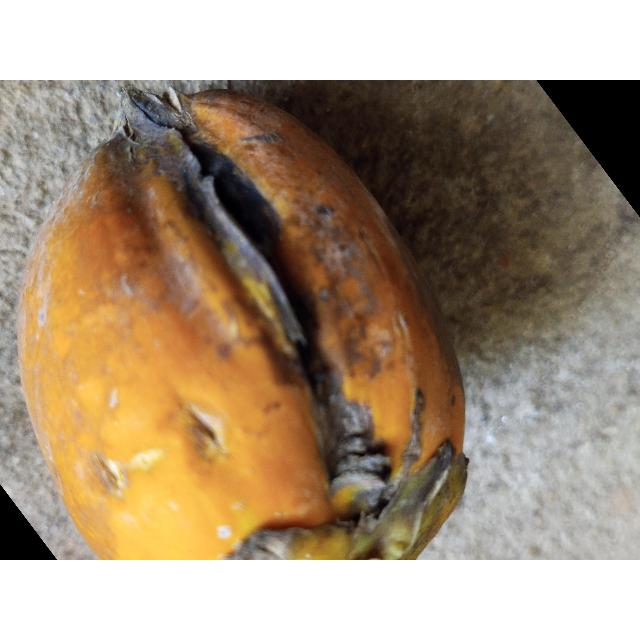damaged: (19, 84, 466, 560)
